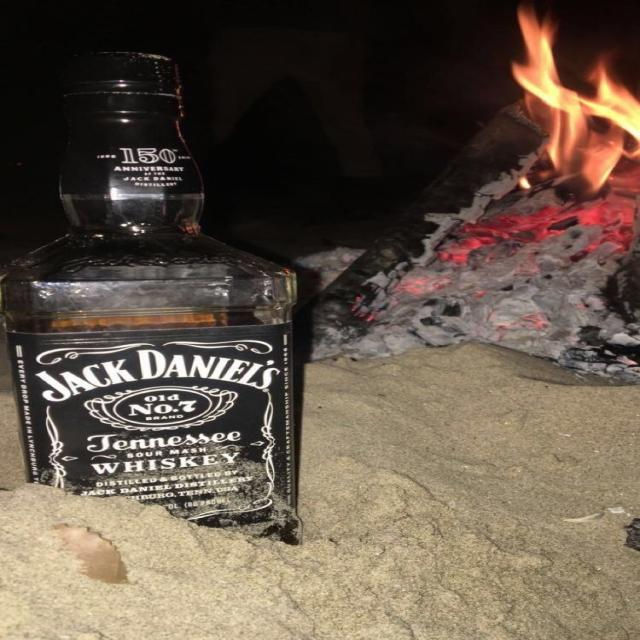fire: (508, 5, 640, 191)
